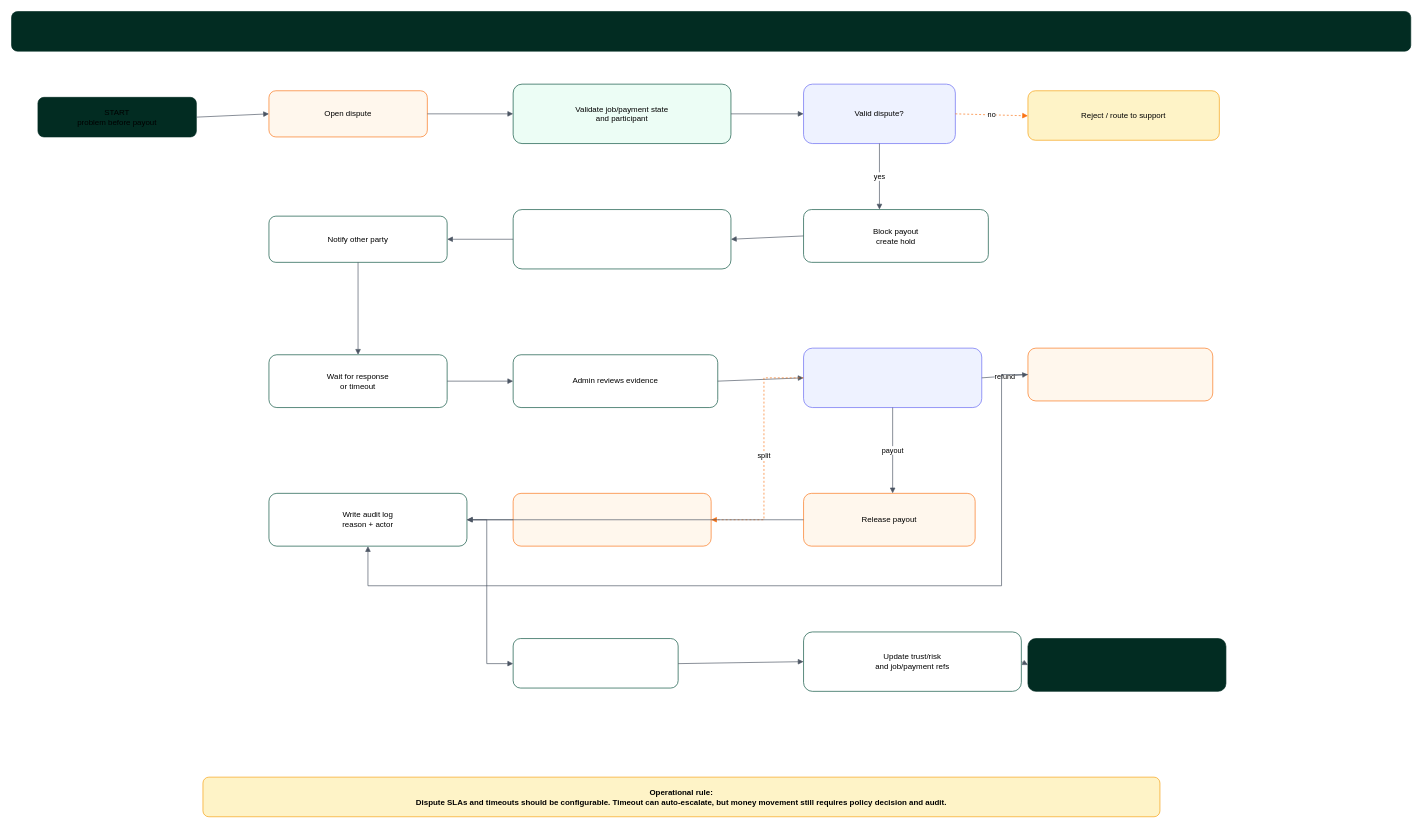
This 1422x828 diagram has some shape labels left out. The shapes that lost their labels are listed below. From the top down, each one's centre as x and y in pixels, then its label:
the point at 711,31: Viaverse Dispute / Refund / Payout — Activity Diagram
the point at 621,239: Collect evidence messages / media / notes
the point at 892,377: Resolution decision
the point at 1120,374: Refund full/partial
the point at 611,519: Partial refund partial payout
the point at 595,663: Close dispute
the point at 1126,664: Emit resolution events
